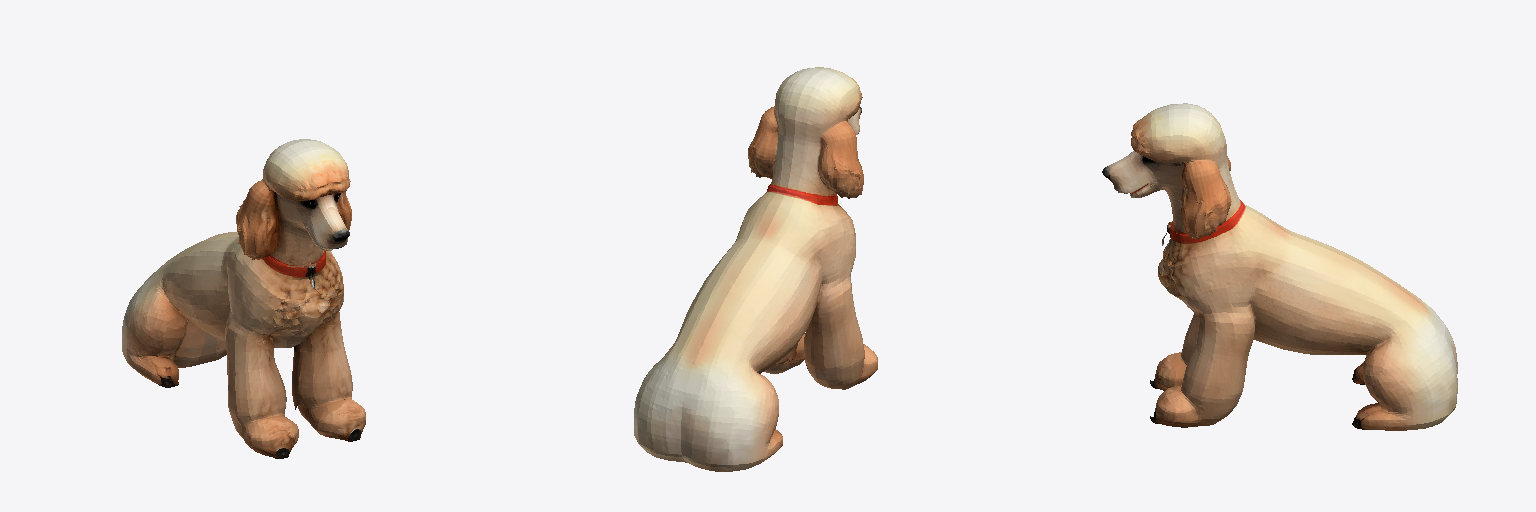
The picture shows the model from 3 angles: view 1: azimuth 30°, elevation 25°; view 2: azimuth 150°, elevation 25°; view 3: azimuth 270°, elevation 25°; orthographic projection.
Bounding box in the file's own units: 0.7947 × 1.73 × 1.9.
1 materials, 1 textured.